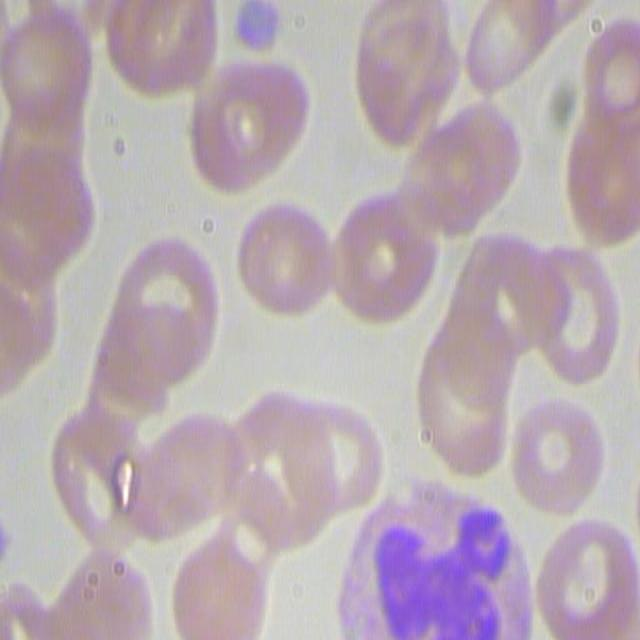RBC: (239, 397, 334, 548), (362, 1, 458, 144), (406, 105, 516, 227), (125, 239, 217, 377), (202, 66, 304, 189), (334, 202, 440, 317), (52, 419, 145, 549), (545, 518, 640, 640), (536, 249, 620, 386), (424, 329, 503, 474), (468, 238, 572, 348), (9, 125, 96, 255), (102, 0, 220, 91), (3, 9, 92, 127), (147, 414, 245, 517), (53, 547, 158, 640), (520, 401, 602, 519), (283, 408, 379, 507), (242, 211, 331, 314), (567, 118, 638, 244), (182, 539, 266, 640), (452, 278, 520, 387), (0, 220, 50, 365), (96, 344, 172, 437), (470, 0, 544, 91), (589, 30, 640, 126), (0, 585, 60, 635)
WBC: (338, 504, 536, 640)
platelets: (238, 7, 276, 52)
